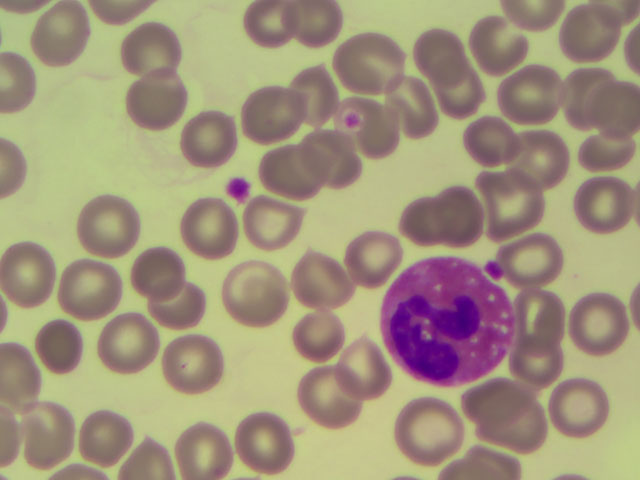Platelets: (226, 179, 251, 201), (486, 261, 506, 280)
RBC: (338, 90, 398, 159), (1, 241, 61, 308), (502, 58, 565, 120), (99, 314, 161, 376), (57, 258, 119, 320), (549, 376, 611, 438), (568, 294, 630, 356), (500, 227, 562, 289), (481, 171, 543, 233), (243, 82, 305, 144), (481, 387, 543, 449), (172, 418, 234, 480), (290, 249, 352, 311), (127, 70, 189, 132), (177, 109, 239, 171), (395, 398, 457, 460), (78, 194, 140, 256), (262, 139, 324, 201), (297, 364, 359, 426), (233, 410, 295, 472), (223, 261, 285, 323), (176, 198, 238, 260), (15, 404, 77, 466), (31, 1, 93, 63), (339, 33, 401, 95), (573, 174, 635, 236), (163, 332, 225, 394), (376, 79, 438, 141), (558, 2, 620, 64), (465, 13, 527, 75), (344, 222, 401, 286), (302, 125, 359, 189), (285, 61, 342, 125), (507, 127, 567, 187), (248, 190, 308, 249), (333, 335, 388, 398), (433, 184, 487, 248), (128, 246, 187, 303), (76, 407, 129, 468), (464, 111, 519, 169), (118, 22, 183, 70), (280, 1, 344, 48), (430, 64, 484, 118), (564, 66, 614, 123), (145, 280, 203, 329), (1, 344, 42, 412), (515, 292, 566, 346), (288, 309, 340, 361), (122, 432, 177, 480), (1, 53, 41, 119), (244, 1, 300, 48), (415, 30, 467, 79), (575, 130, 640, 169), (593, 81, 640, 134), (511, 340, 564, 386), (37, 317, 81, 372), (399, 188, 440, 247), (500, 1, 560, 33), (465, 441, 514, 480), (44, 452, 111, 480), (1, 133, 28, 195), (93, 1, 157, 26), (433, 455, 492, 480), (588, 1, 640, 26), (623, 17, 640, 78)
WBC: (383, 256, 512, 385)
